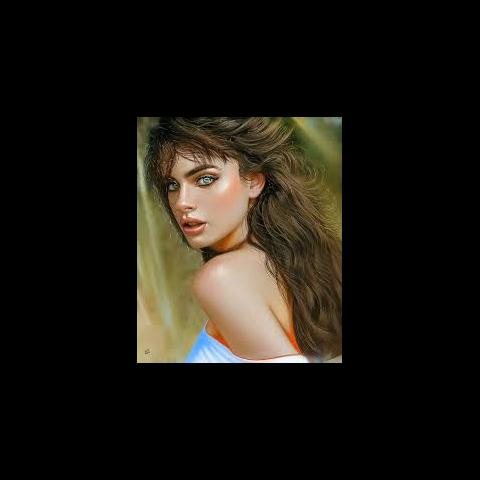opened: (156, 162, 227, 196)
